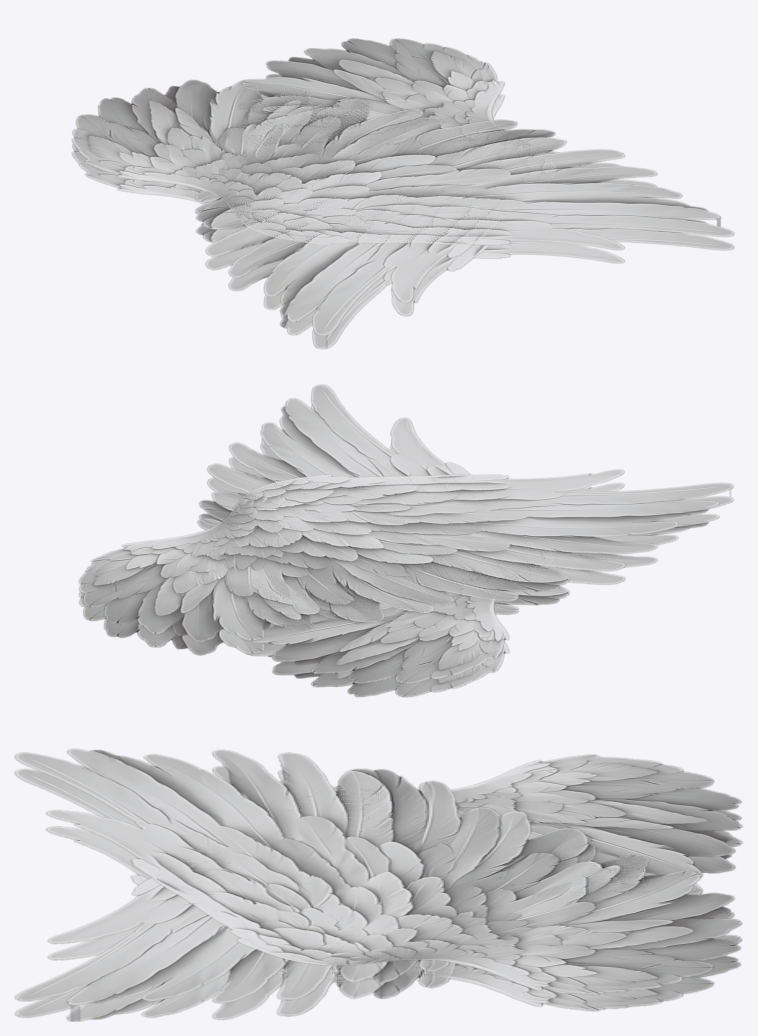
The model's file is realistic_detailed_wings_lowpoly.glb.
The picture shows the model from 3 angles, top to bottom: view 1: azimuth 30°, elevation 25°; view 2: azimuth 150°, elevation 25°; view 3: azimuth 270°, elevation 25°; orthographic projection. The views are drawn at different scales.
Visible parts, largest first — view 1: RW_01 - Default_0, LW_01 - Default_0; view 2: LW_01 - Default_0, RW_01 - Default_0; view 3: LW_01 - Default_0, RW_01 - Default_0.
Boxes of the visible parts, x1,y1,x2,y2 form: RW_01 - Default_0: (71,79,734,263); LW_01 - Default_0: (195,38,555,349); LW_01 - Default_0: (78,469,733,655); RW_01 - Default_0: (197,384,555,697); LW_01 - Default_0: (14,748,742,1011); RW_01 - Default_0: (14,754,742,1021).
Bounding box in the file's own units: 0.9074 × 0.0284 × 1.09.
Materials: 1 (1 with a texture image).
